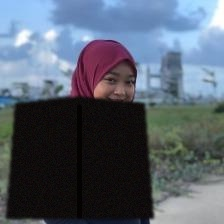Cadar_Niqab: (6, 35, 154, 218)
